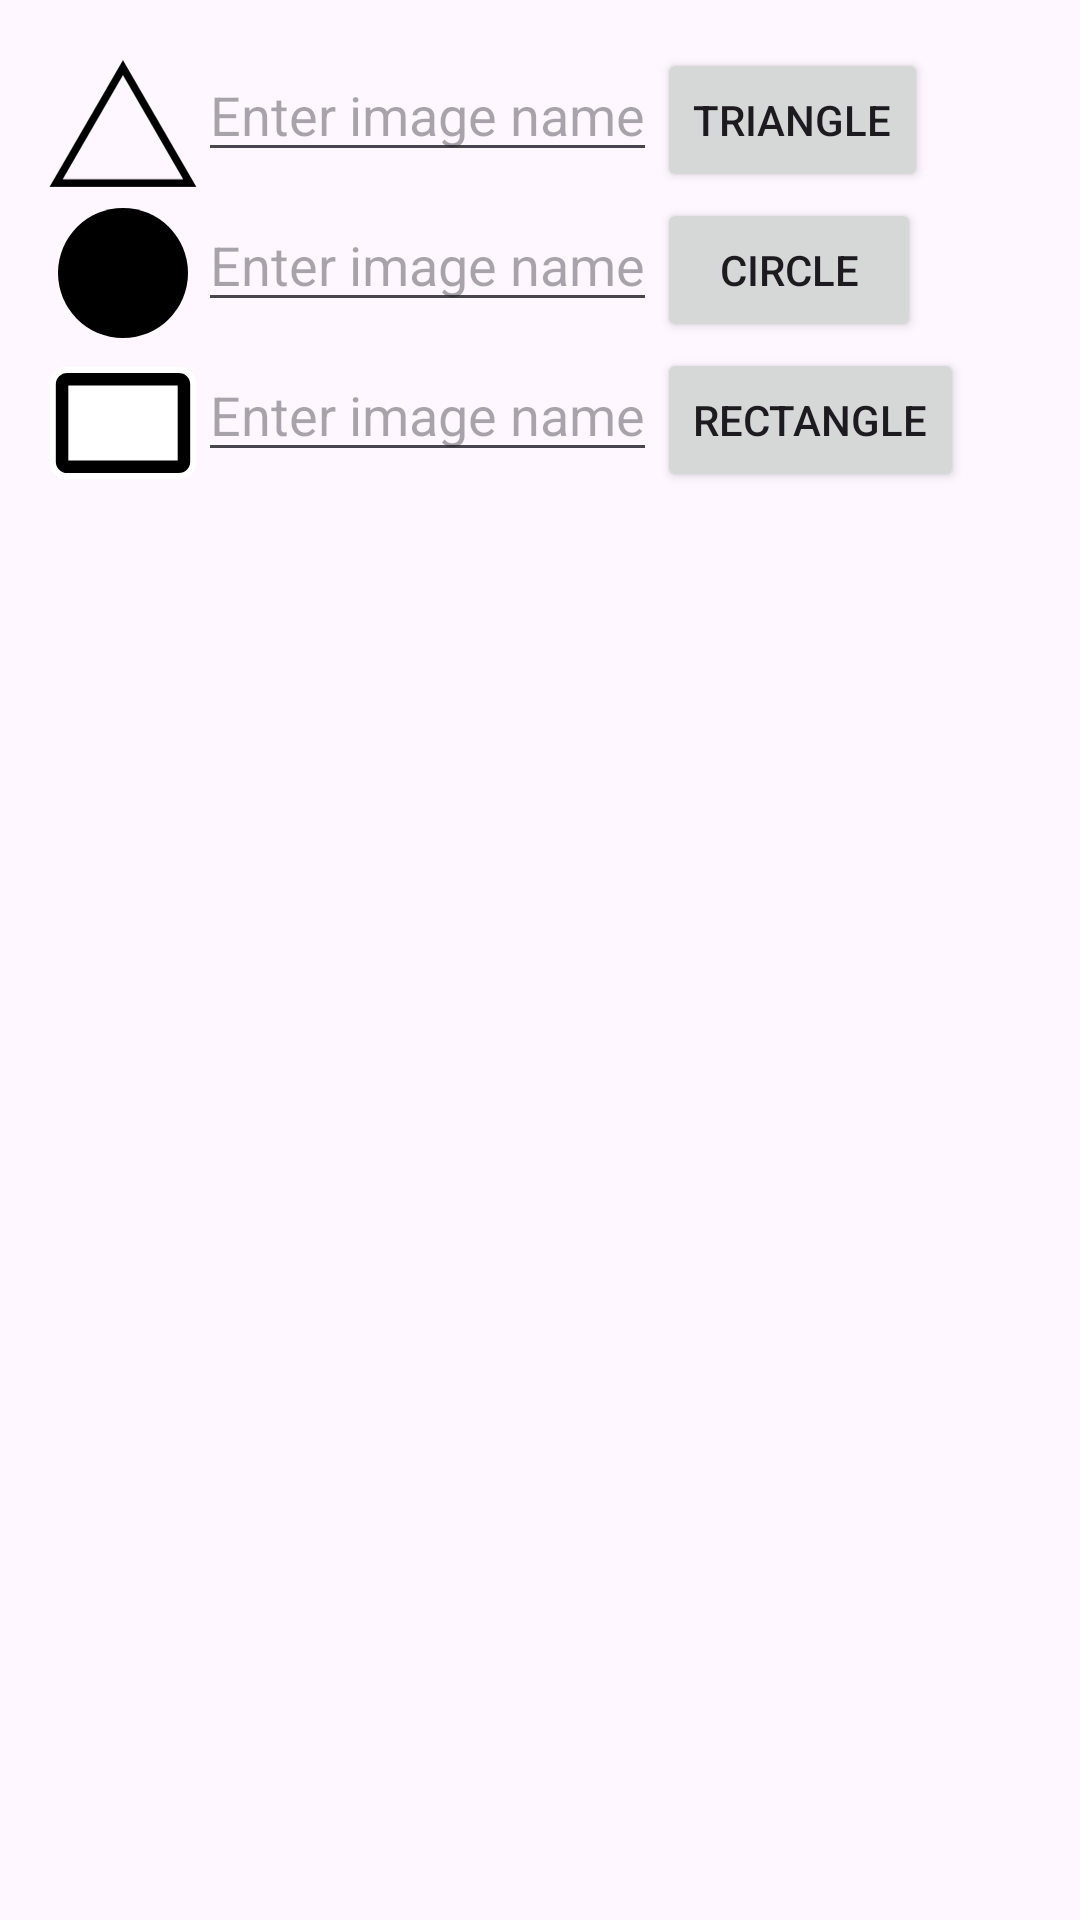

Named icons in this screenshot (1080*1920) and their centers, (x=x, y=y):
circle: (x=123, y=273)
triangle: (x=122, y=123)
